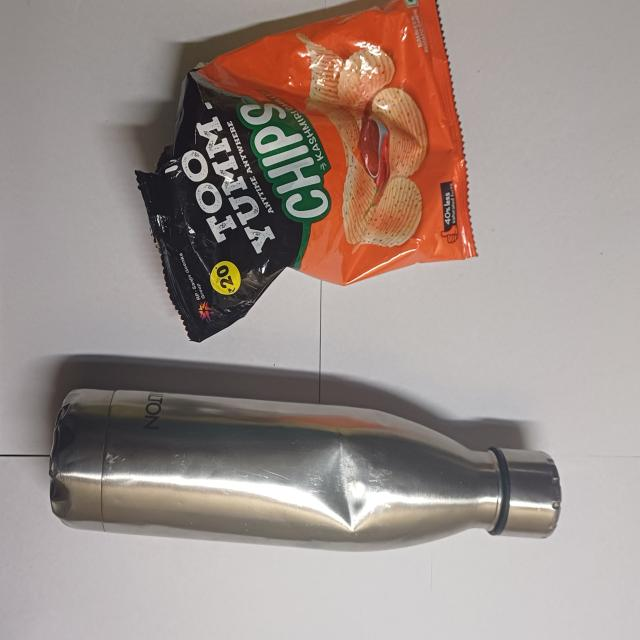Plastic-NonBio: (132, 0, 483, 345)
Steel-NonBio: (48, 384, 565, 558)
